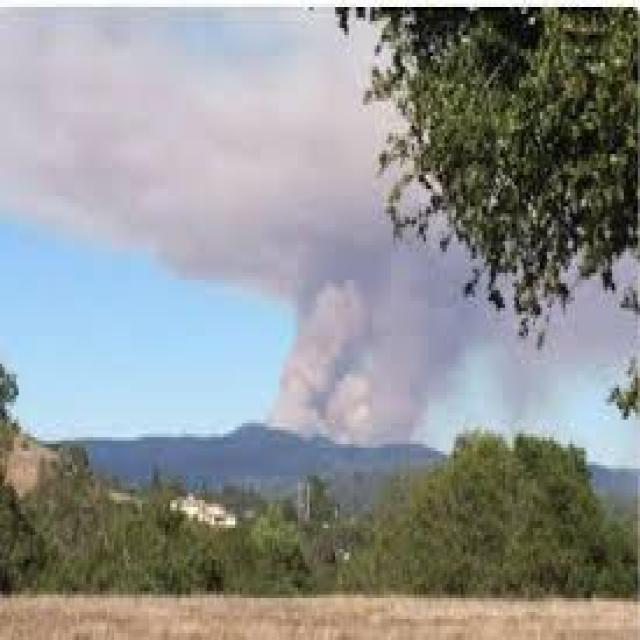Smoke: (5, 1, 382, 280), (294, 284, 422, 445)
